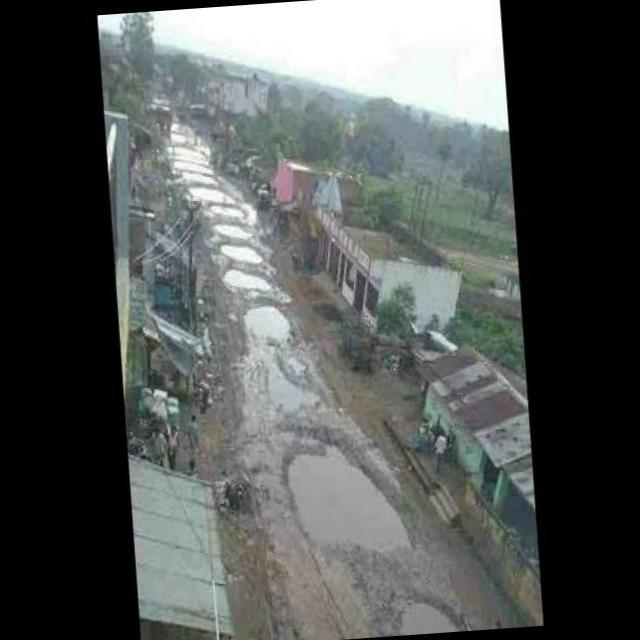Pothole: (272, 422, 425, 566), (252, 350, 322, 418), (388, 590, 466, 636), (241, 298, 294, 342), (224, 260, 276, 298), (220, 236, 264, 269), (190, 180, 236, 206), (214, 217, 251, 240), (210, 200, 246, 220)
